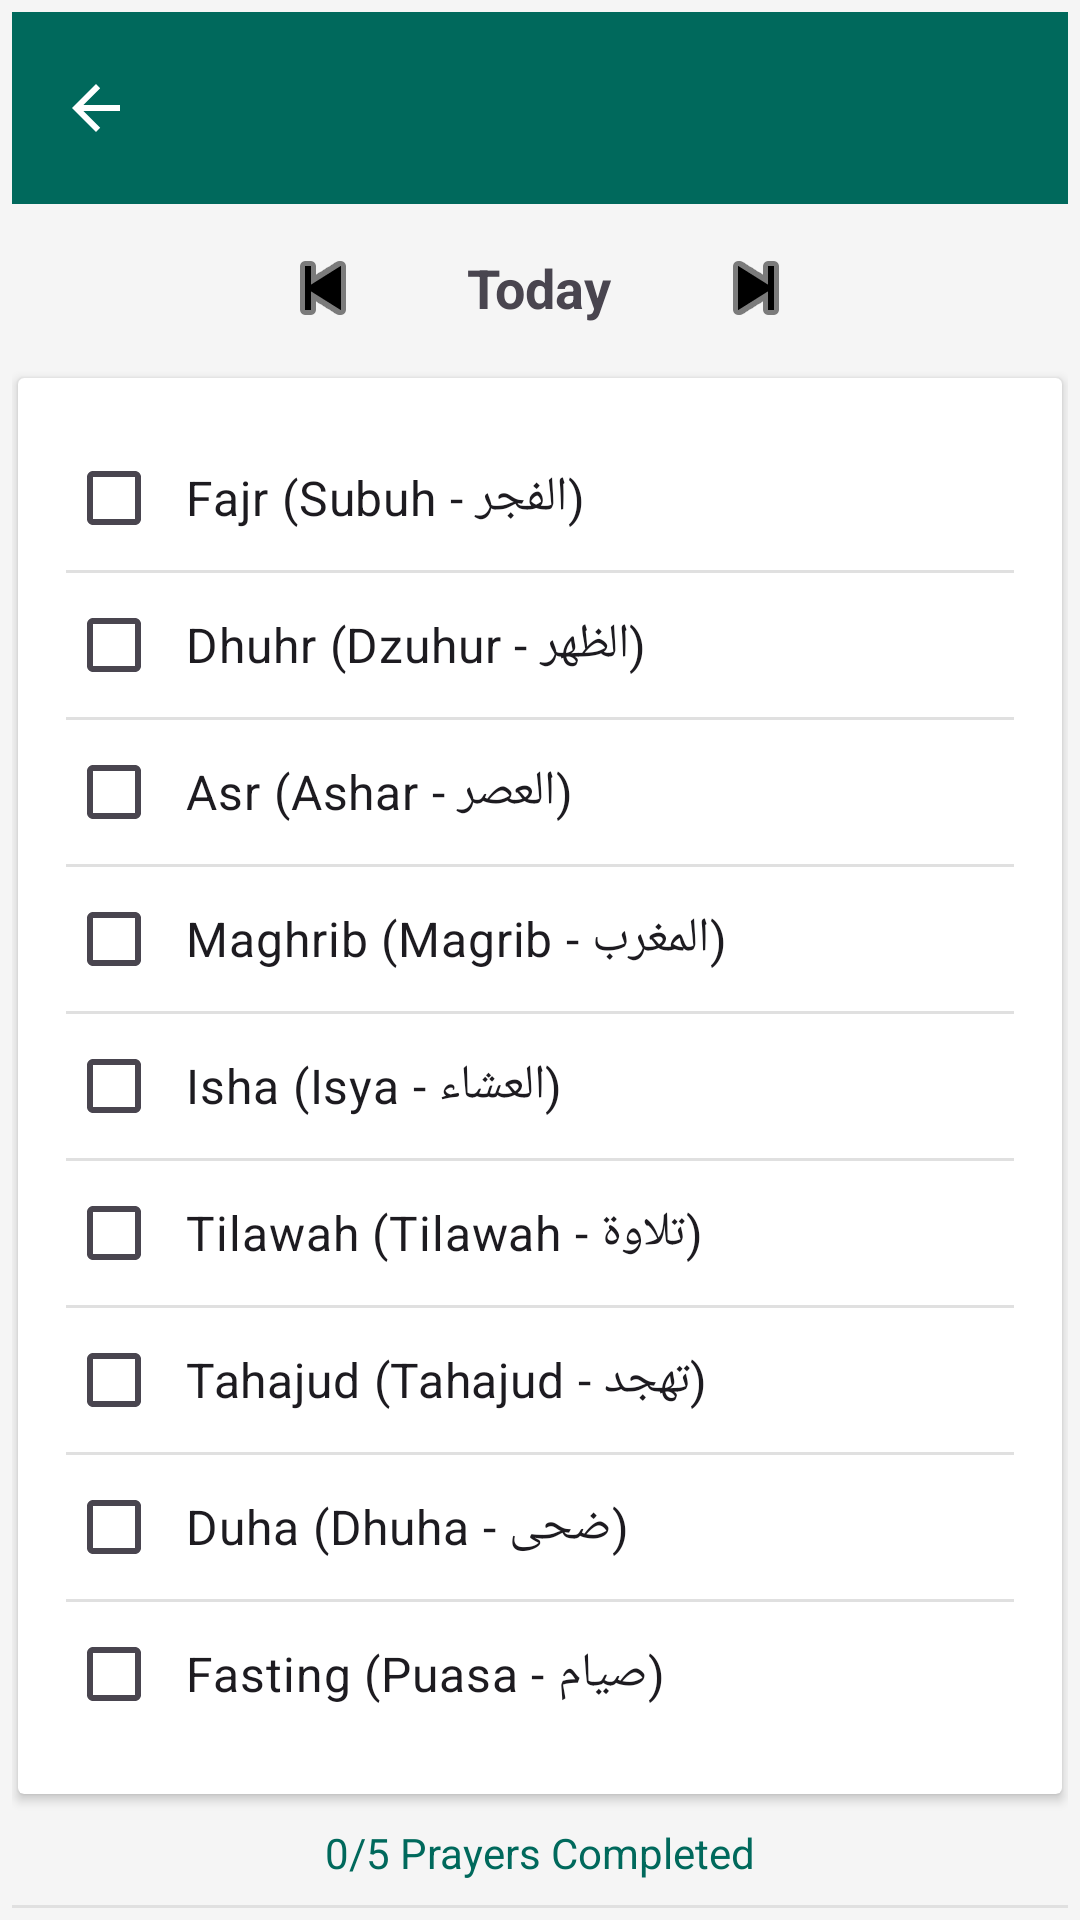

Screen size 1080w x 1920h. Icon name, then its center in pixels as [x,y]:
Next Day: [756,288]
Previous Day: [323,288]
